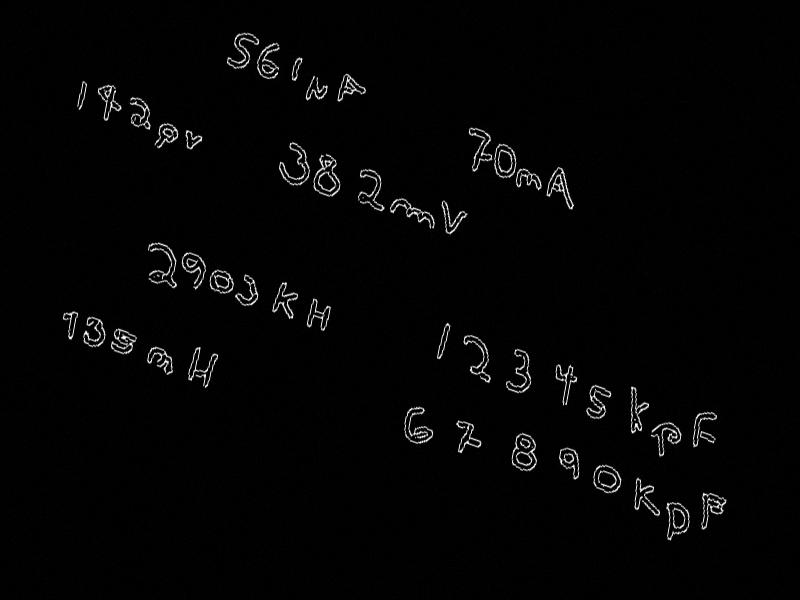0: (489, 139, 521, 185), (588, 458, 624, 498), (205, 262, 238, 299)
1: (56, 304, 80, 345), (433, 318, 454, 364), (73, 77, 91, 113), (287, 52, 304, 87)
2: (139, 236, 184, 296), (455, 330, 497, 387), (352, 163, 393, 215), (123, 91, 157, 134)
3: (273, 134, 317, 196), (503, 342, 538, 401), (232, 269, 266, 315), (79, 311, 111, 355), (157, 405, 158, 406)
4: (548, 358, 582, 410), (91, 78, 126, 126)
5: (223, 24, 261, 77), (584, 380, 614, 426), (108, 323, 139, 360)
6: (399, 400, 438, 451), (253, 35, 285, 85)
7: (459, 122, 499, 178), (450, 415, 487, 462)
8: (309, 147, 347, 203), (506, 427, 544, 479)
9: (176, 245, 210, 293), (554, 441, 585, 486)
A: (543, 162, 581, 213)
F: (694, 487, 728, 540), (689, 404, 722, 457), (334, 67, 369, 113)
H: (186, 342, 219, 392), (302, 294, 333, 337)
V: (435, 197, 470, 243), (182, 127, 206, 156)
k: (629, 474, 667, 522), (621, 381, 653, 438), (271, 277, 302, 322)
m: (386, 190, 439, 232)
n: (143, 341, 177, 379), (511, 163, 544, 199)
p: (645, 412, 685, 466), (658, 496, 695, 551), (153, 116, 183, 156)
u: (303, 70, 331, 109)
